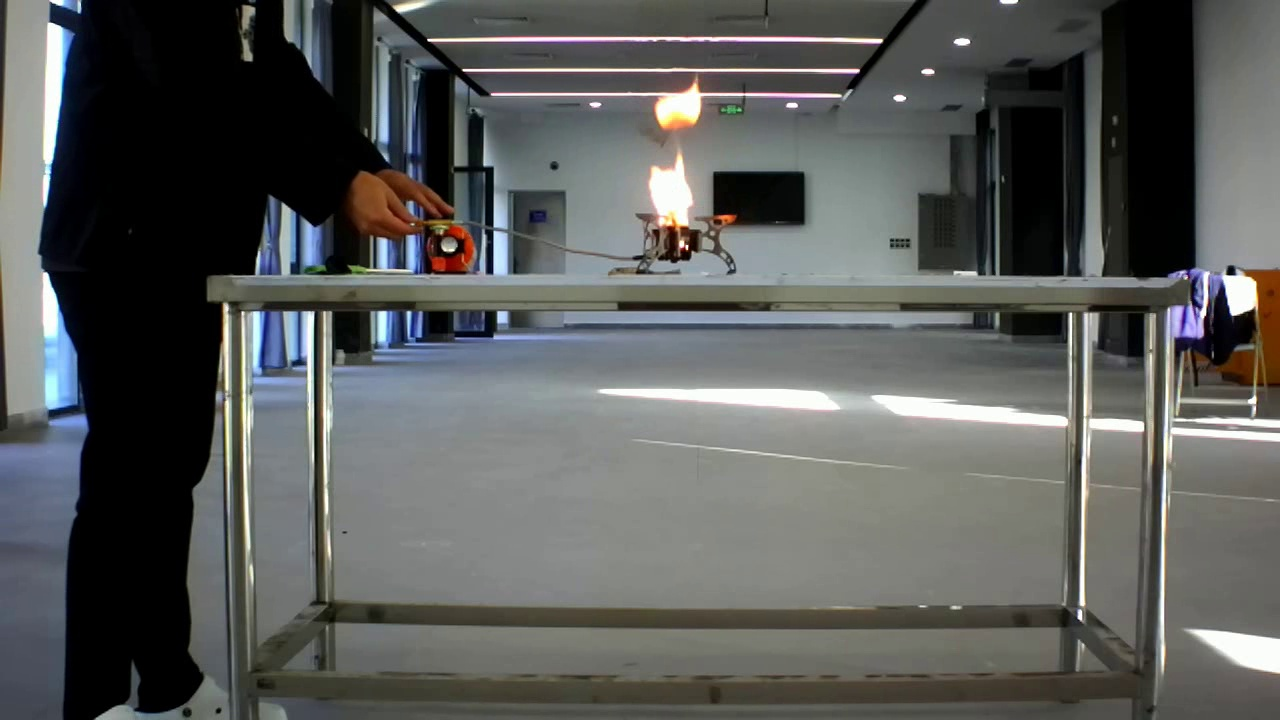Fire: (632, 76, 736, 258)
